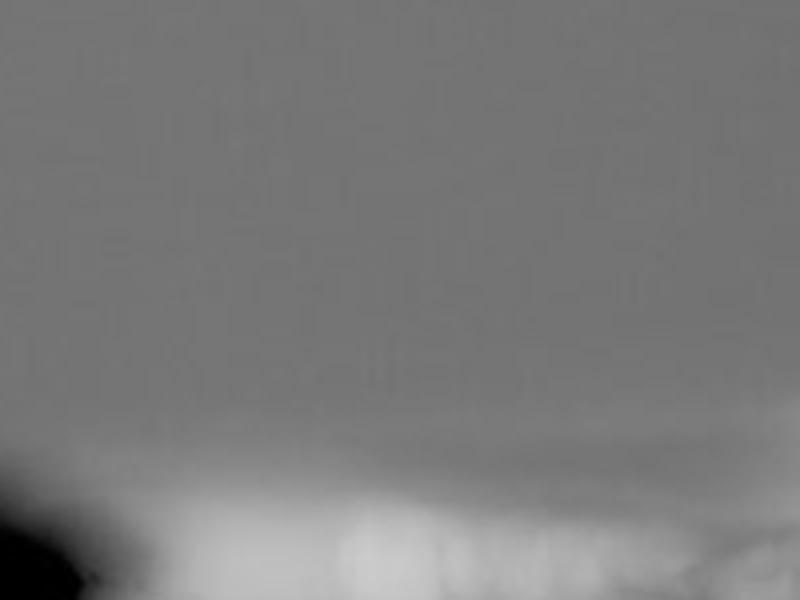defect: (3, 518, 94, 600)
